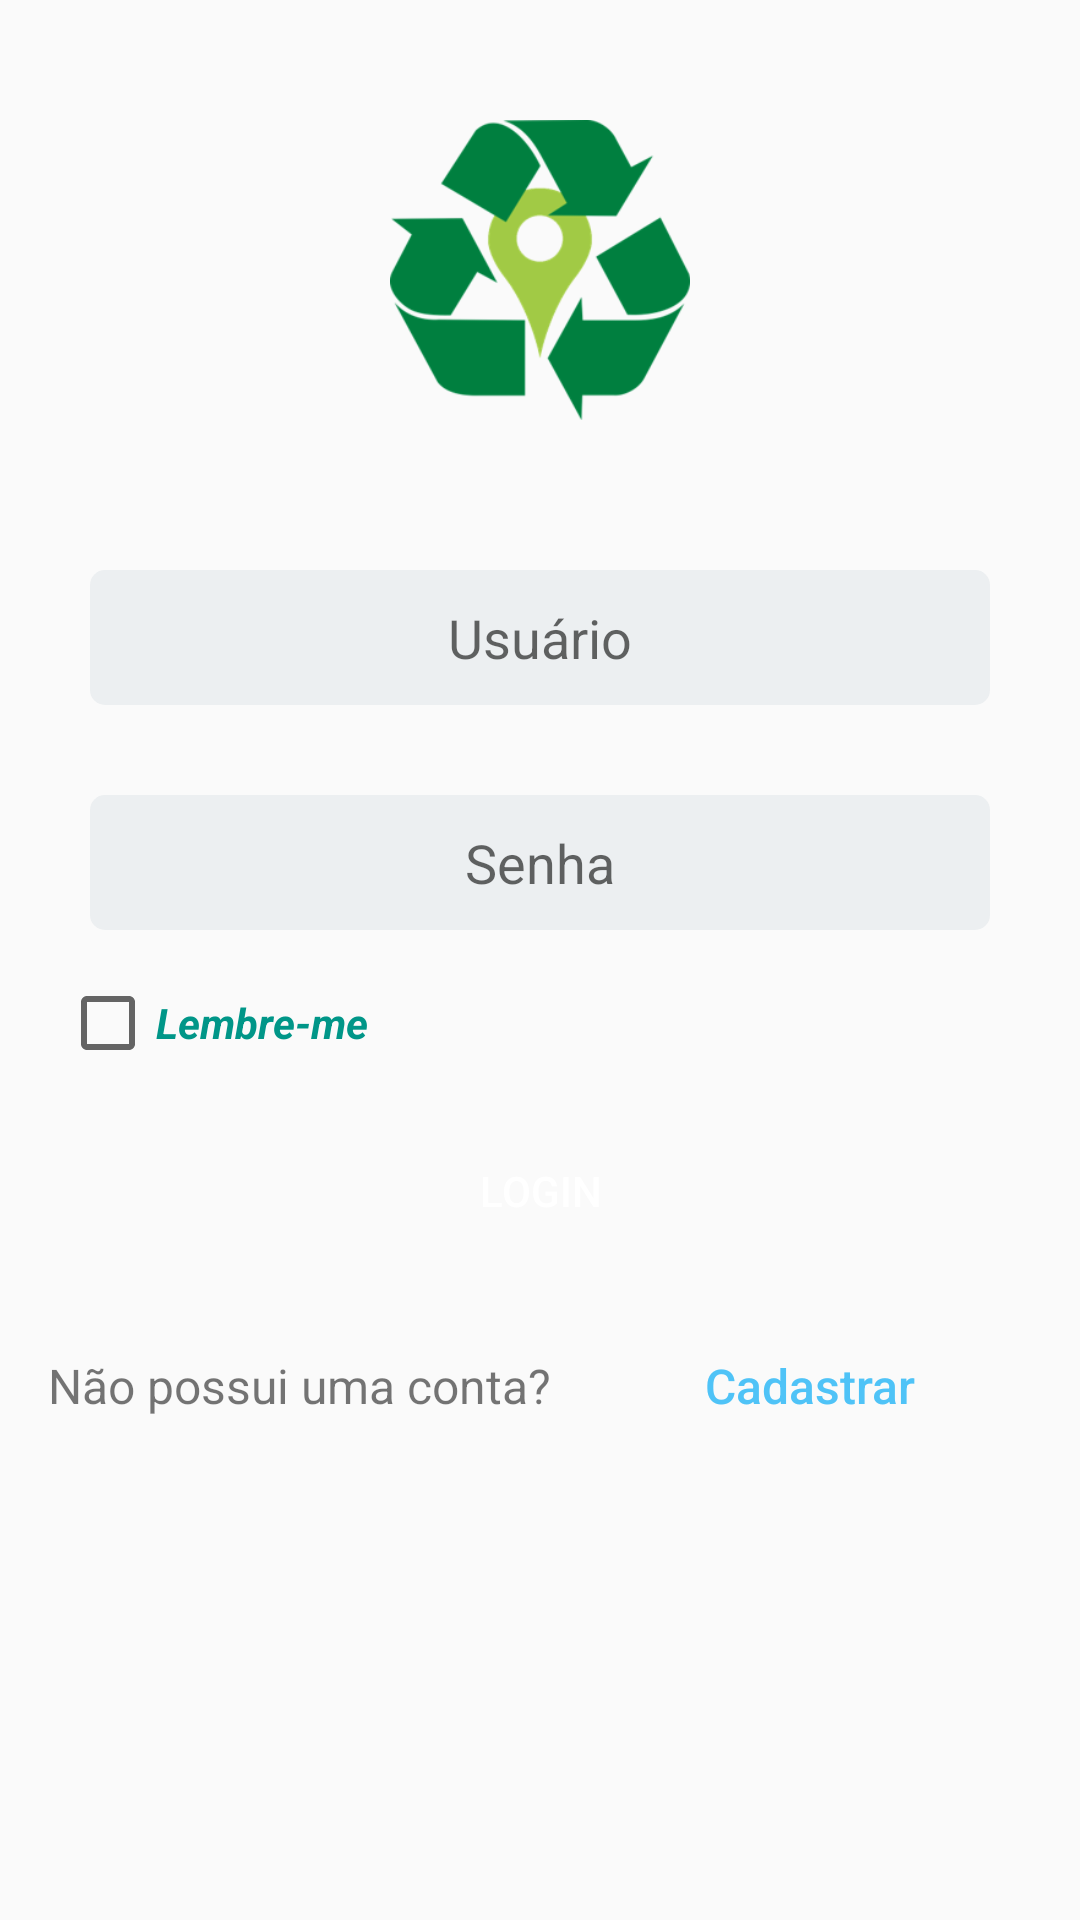

Where to tap for icons on this 1080px×1920px app screen, as (x=x, y=y):
ecoloc: (x=540, y=270)
